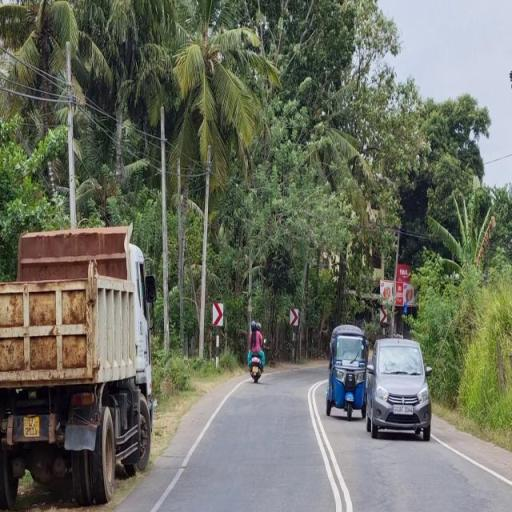double_white_line: (309, 377, 355, 512)
